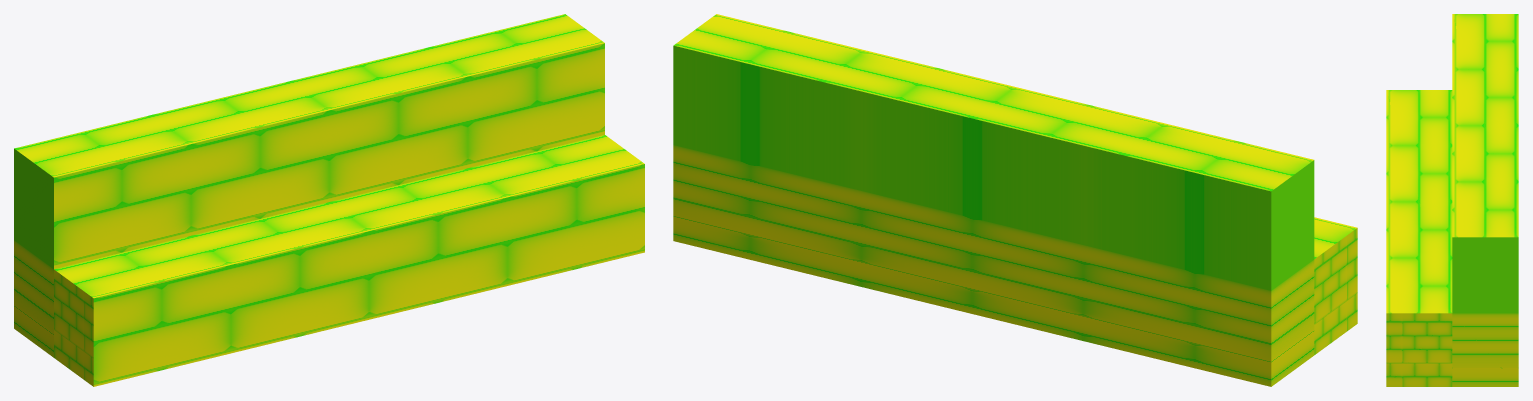
Rendered from Stair_single.fbx.
3 renders of one model, left to right at view 1: azimuth 30°, elevation 25°; view 2: azimuth 150°, elevation 25°; view 3: azimuth 270°, elevation 25°, orthographic. The views are drawn at different scales.
Parts seen in each view (by area): view 1: Single_piece; view 2: Single_piece; view 3: Single_piece.
Boxes of the visible parts, left/top/right/bottom form: Single_piece: left=14, top=14, right=644, bottom=386; Single_piece: left=673, top=14, right=1357, bottom=386; Single_piece: left=1386, top=14, right=1518, bottom=386.
Size of the model in its own units: 200 by 62.5 by 50.
